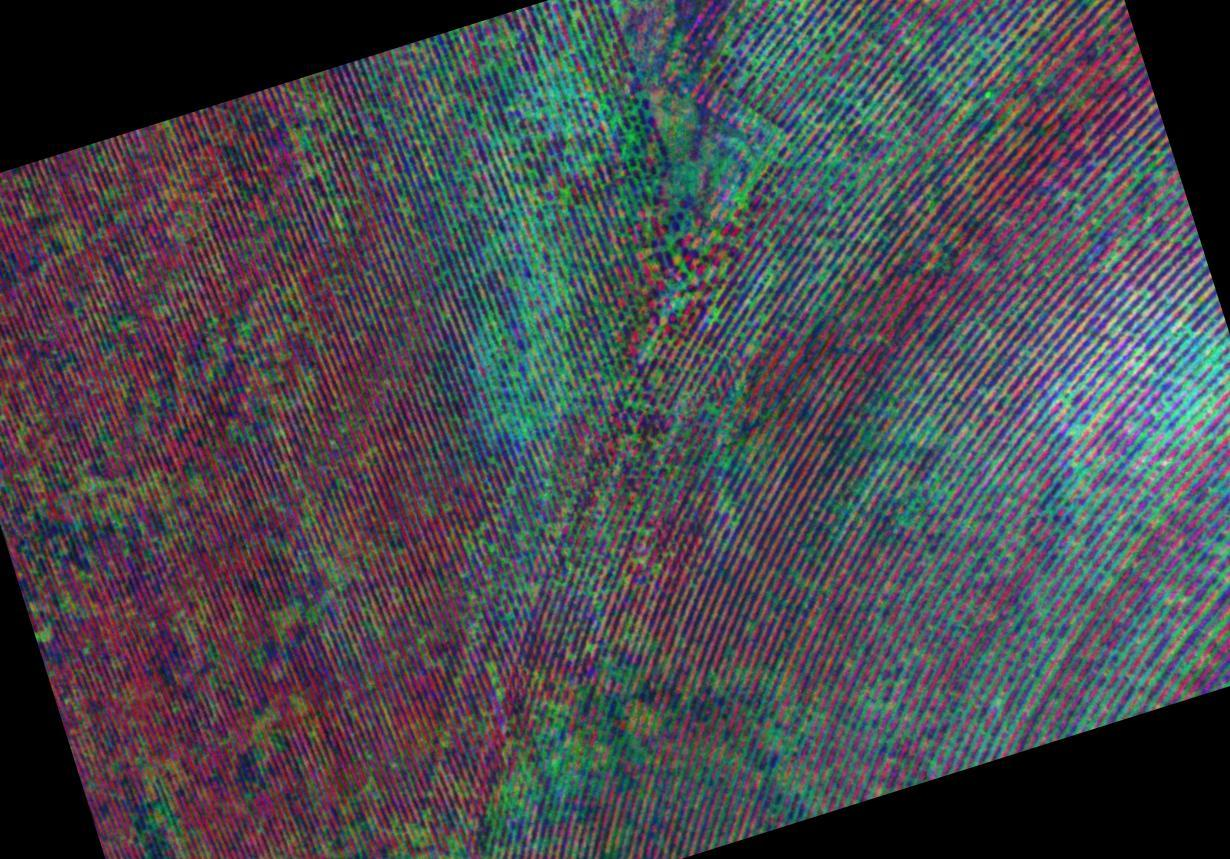dc: (461, 75, 585, 186), (488, 288, 573, 446), (1166, 318, 1230, 460), (493, 725, 575, 815), (713, 105, 772, 190)
